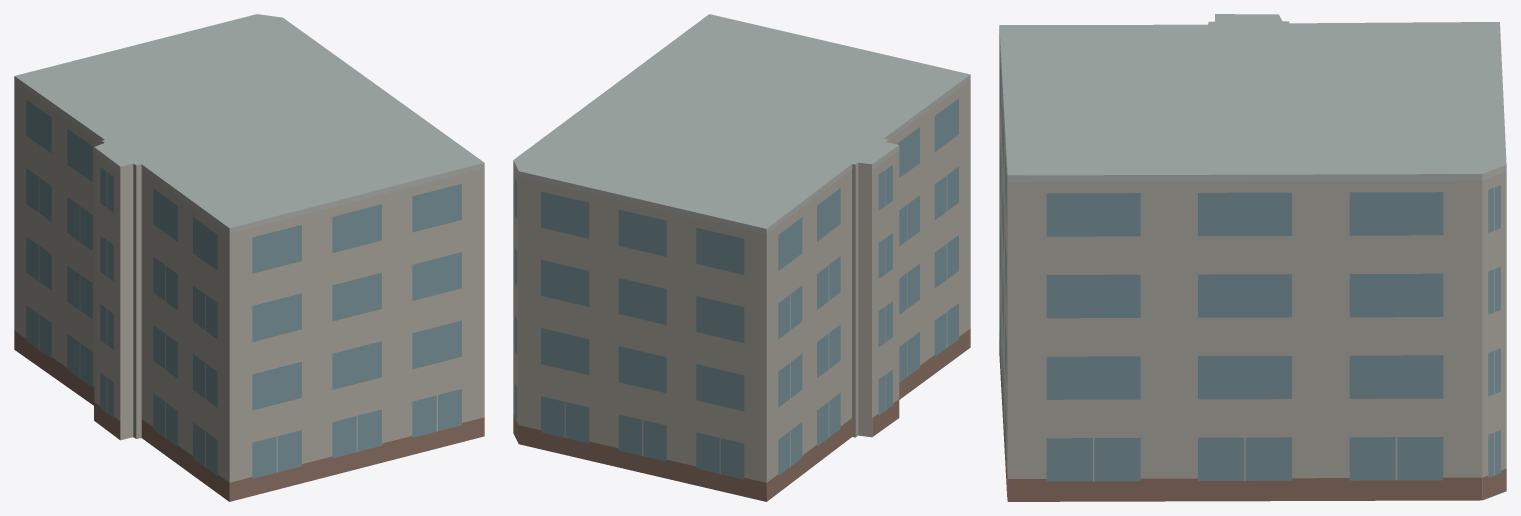
File: survey-upis-32494960.glb
3 views of the same model, side by side, from view 1: azimuth 30°, elevation 25°; view 2: azimuth 150°, elevation 25°; view 3: azimuth 270°, elevation 25° (orthographic). The views are drawn at different scales.
Visible parts, largest first — view 1: survey-upis-32494960.tmp; view 2: survey-upis-32494960.tmp; view 3: survey-upis-32494960.tmp.
Part boxes in pixels (bbox=[...]): survey-upis-32494960.tmp: bbox=[14, 14, 484, 501]; survey-upis-32494960.tmp: bbox=[513, 14, 970, 501]; survey-upis-32494960.tmp: bbox=[999, 14, 1506, 501].
Bounding box in the file's own units: 13.05 × 12.3 × 17.33.
